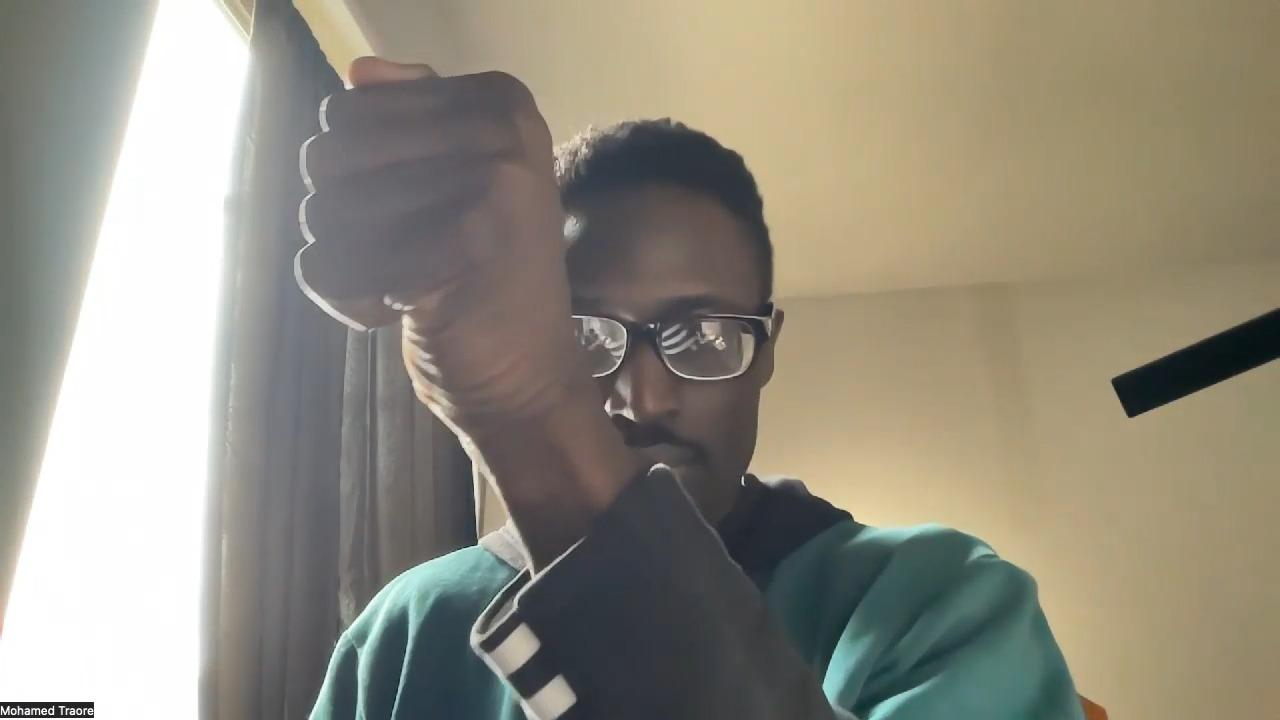Rock: (293, 55, 573, 415)
